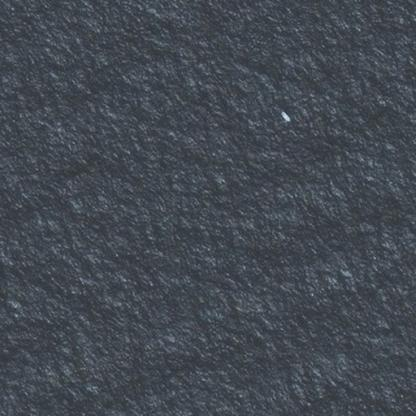ship: (276, 104, 298, 127)
